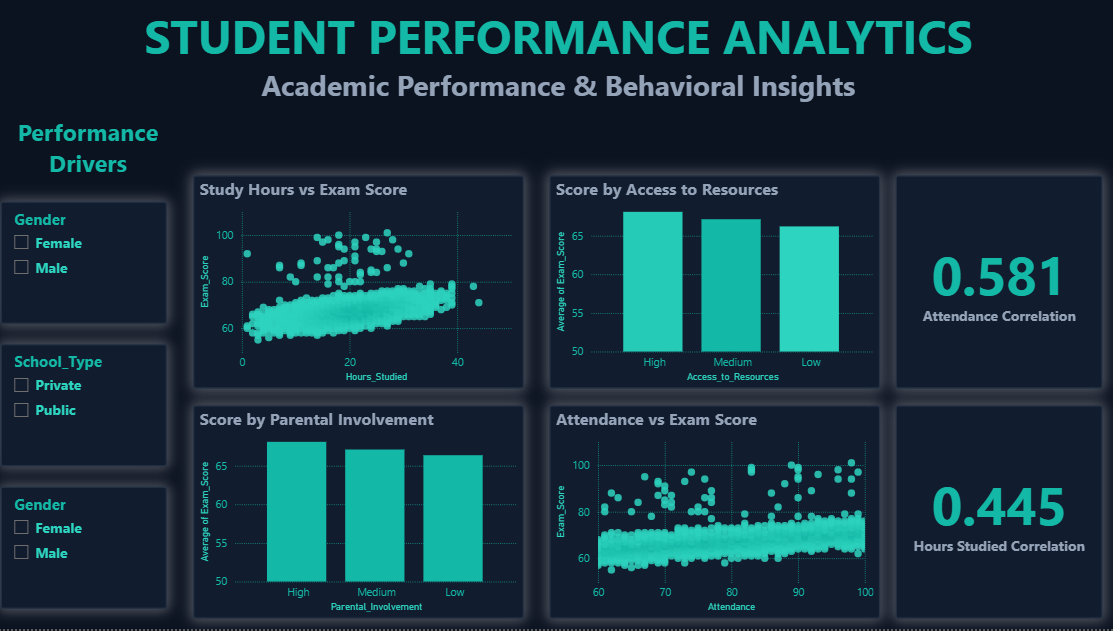

The dashboard page shown, as its layout file describes it:
{"tool":"powerbi","page":{"name":"Performance Drivers","canvas":[1280,720],"ordinal":1},"visuals":[{"type":"textbox","box":[156.7,0,966.7,128.3],"z":0},{"type":"scatterChart","title":"Study Hours vs Exam Score","fields":{"X":["clean_data.Hours_Studied"],"Y":["clean_data.Exam_Score"]},"box":[222.9,201.4,378.6,244.3],"z":1000},{"type":"clusteredColumnChart","title":"Score by Parental Involvement","fields":{"Category":["clean_data.Parental_Involvement"],"Y":["Avg(clean_data.Exam_Score)"]},"box":[222.9,464.3,378.6,244.3],"z":2000},{"type":"slicer","fields":{"Values":["clean_data.Gender"]},"box":[2.3,231.4,190,140],"z":3000},{"type":"slicer","fields":{"Values":["clean_data.School_Type"]},"box":[2.3,394.3,190,140],"z":4000},{"type":"slicer","fields":{"Values":["clean_data.Gender"]},"box":[2.3,557.1,190,140],"z":5000},{"type":"textbox","box":[0,128.6,205.7,102.9],"z":6000},{"type":"clusteredColumnChart","title":"Score by Access to Resources","fields":{"Category":["clean_data.Access_to_Resources"],"Y":["Avg(clean_data.Exam_Score)"]},"box":[630,201.4,378.6,244.3],"z":7000},{"type":"scatterChart","title":"Attendance vs Exam Score","fields":{"X":["clean_data.Attendance"],"Y":["clean_data.Exam_Score"]},"box":[630,464.3,378.6,244.3],"z":8000},{"type":"card","fields":{"Values":["clean_data.Attendance Correlation"]},"box":[1025.7,201.4,237.1,244.3],"z":9000},{"type":"card","fields":{"Values":["clean_data.Hours Studied Correlation"]},"box":[1025.7,464.3,237.1,244.3],"z":10000}]}

Visuals, with their boxes in screenshot pixels (x1, y1, x2, y2), scaled from the page's 1280x720 canvas onto the 1113x631 screenshot:
textbox: select_region(136, 0, 977, 112)
"Study Hours vs Exam Score" scatterChart: select_region(194, 177, 523, 391)
"Score by Parental Involvement" clusteredColumnChart: select_region(194, 407, 523, 621)
slicer - clean_data.Gender: select_region(2, 203, 167, 325)
slicer - clean_data.School_Type: select_region(2, 346, 167, 468)
slicer - clean_data.Gender: select_region(2, 488, 167, 611)
textbox: select_region(0, 113, 179, 203)
"Score by Access to Resources" clusteredColumnChart: select_region(548, 177, 877, 391)
"Attendance vs Exam Score" scatterChart: select_region(548, 407, 877, 621)
card - clean_data.Attendance Correlation: select_region(892, 177, 1098, 391)
card - clean_data.Hours Studied Correlation: select_region(892, 407, 1098, 621)
